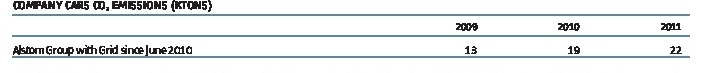table: (0, 0, 704, 73)
